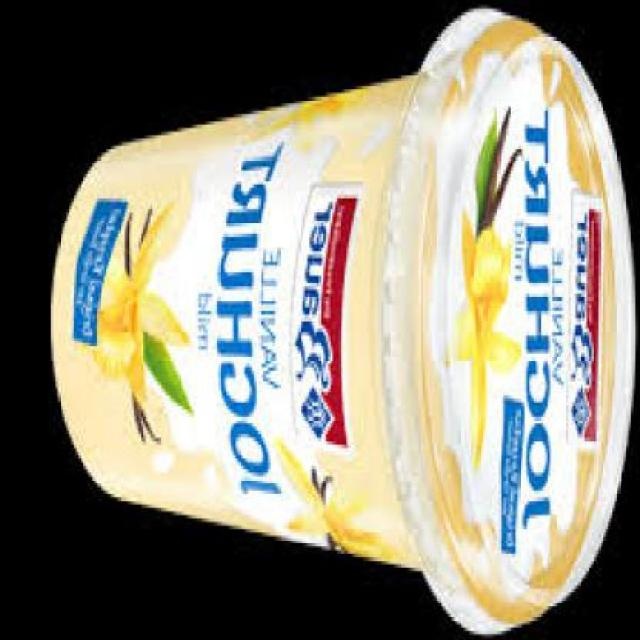PLASTIC: (52, 7, 640, 638)
